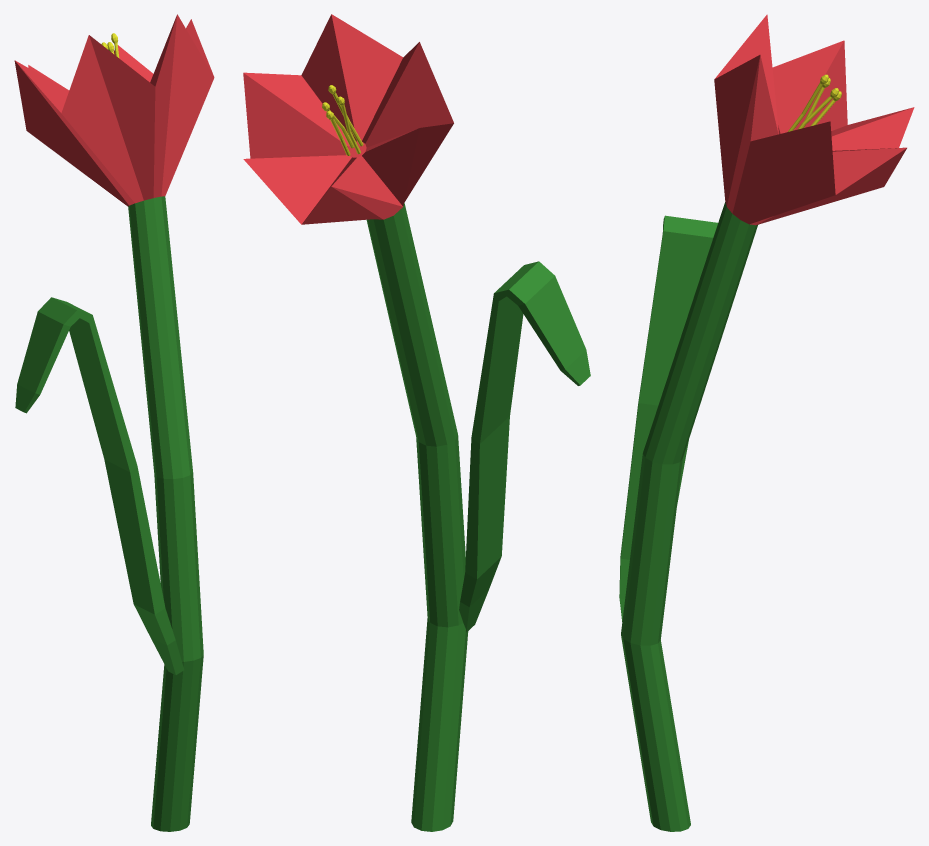
File: Flower3.3.fbx
The picture shows the model from 3 angles, left to right: view 1: azimuth 30°, elevation 25°; view 2: azimuth 150°, elevation 25°; view 3: azimuth 270°, elevation 25°; orthographic projection. The views are drawn at different scales.
Parts seen in each view (by area): view 1: Flower3.3; view 2: Flower3.3; view 3: Flower3.3.
Part boxes in pixels (bbox=[...]): Flower3.3: bbox=[14, 14, 214, 831]; Flower3.3: bbox=[243, 14, 590, 831]; Flower3.3: bbox=[619, 14, 914, 831].
Bounding box in the file's own units: 9.75 × 29.3 × 9.85.
